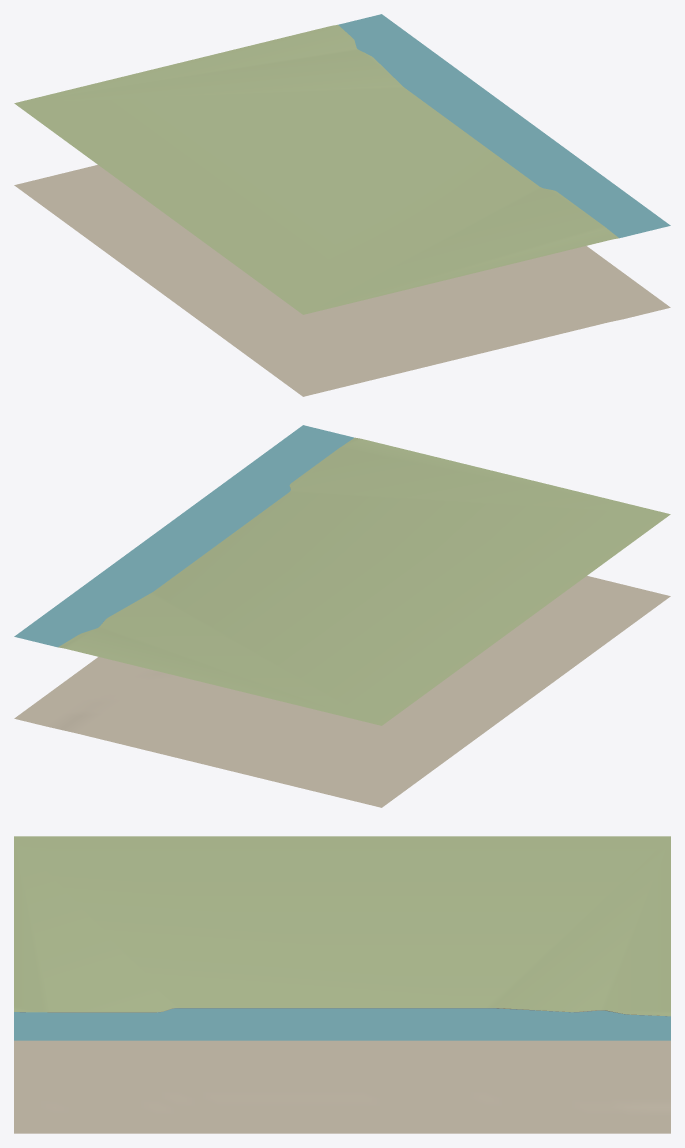
The picture shows the model from 3 angles, top to bottom: view 1: azimuth 30°, elevation 25°; view 2: azimuth 150°, elevation 25°; view 3: azimuth 270°, elevation 25°; orthographic projection. The views are drawn at different scales.
Parts seen in each view (by area): view 1: s_-13_-5__grass, s_-13_-5__soil, s_-13_-5__water; view 2: s_-13_-5__grass, s_-13_-5__soil, s_-13_-5__water; view 3: s_-13_-5__grass, s_-13_-5__soil, s_-13_-5__water, s_-13_-5__shore_bank.
Part boxes in pixels (x1=…): s_-13_-5__grass: x1=14, y1=24, x2=618, y2=314; s_-13_-5__soil: x1=14, y1=165, x2=670, y2=396; s_-13_-5__water: x1=338, y1=14, x2=670, y2=238; s_-13_-5__grass: x1=58, y1=437, x2=670, y2=725; s_-13_-5__soil: x1=14, y1=576, x2=670, y2=807; s_-13_-5__water: x1=14, y1=425, x2=353, y2=647; s_-13_-5__grass: x1=14, y1=836, x2=670, y2=1016; s_-13_-5__soil: x1=14, y1=1040, x2=670, y2=1133; s_-13_-5__water: x1=14, y1=1008, x2=670, y2=1040; s_-13_-5__shore_bank: x1=20, y1=1008, x2=629, y2=1014.
Size of the model in its own units: 94 by 20.14 by 128.
